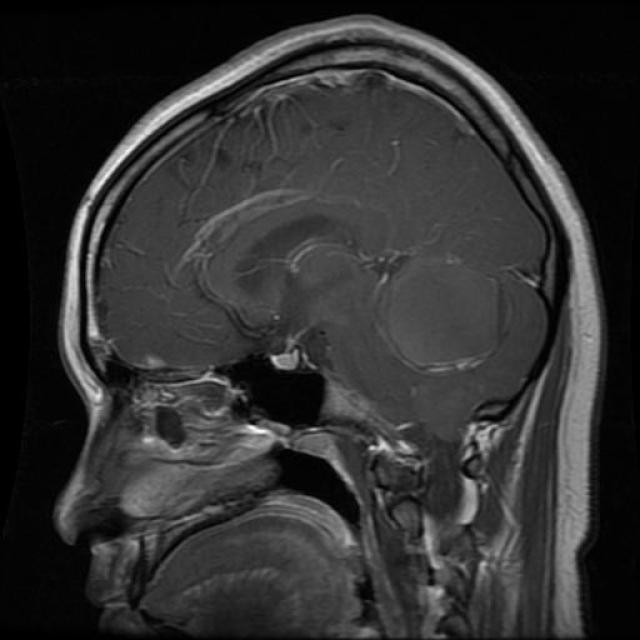glioma: (185, 198, 376, 362)
